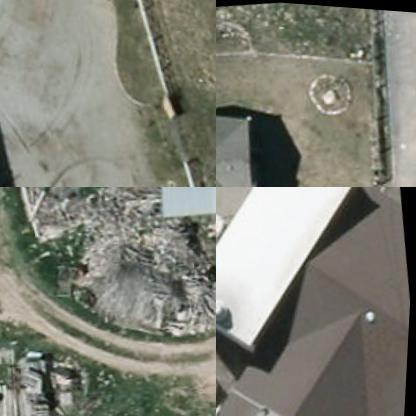car: (216, 207, 234, 274)
